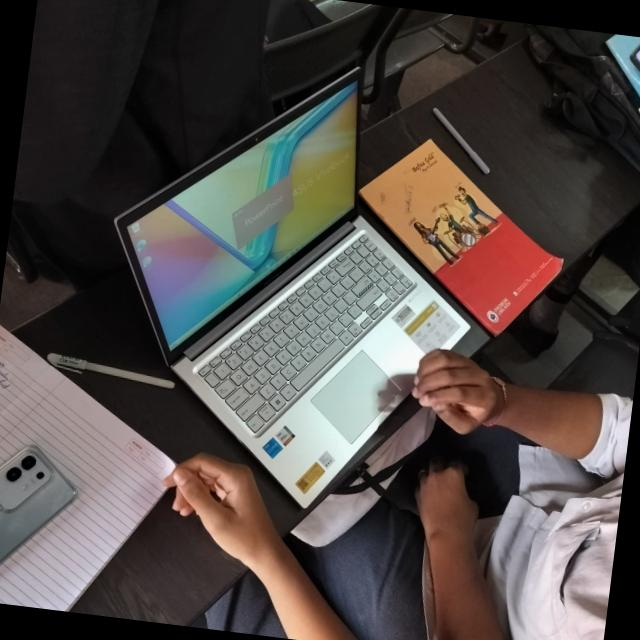laptop: (90, 42, 428, 559)
